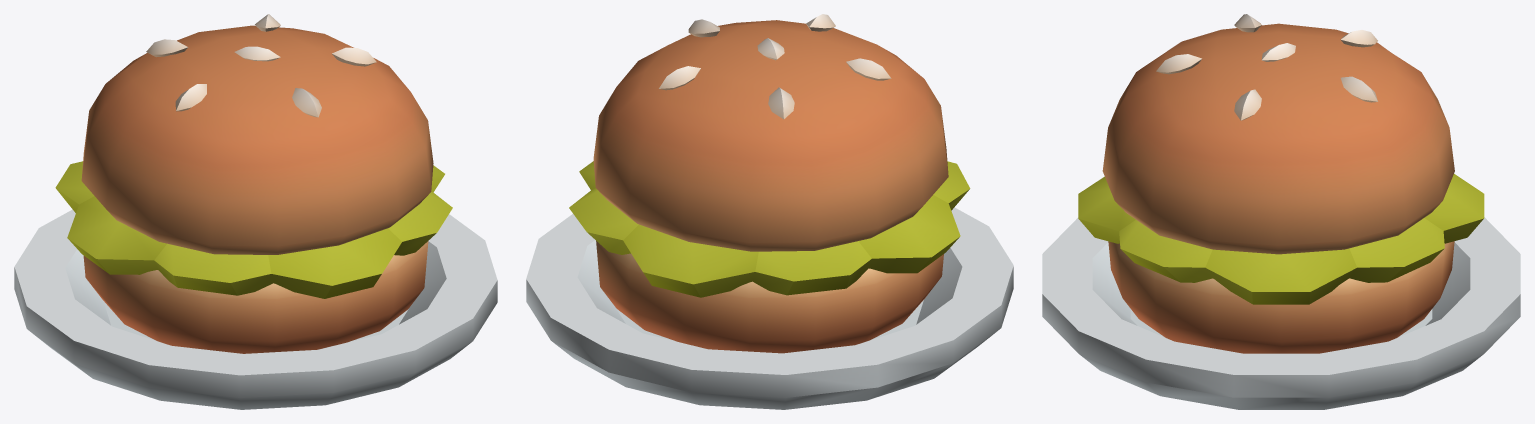
File: plate_bun_lettuce.glb
The picture shows the model from 3 angles, left to right: view 1: azimuth 30°, elevation 25°; view 2: azimuth 150°, elevation 25°; view 3: azimuth 270°, elevation 25°; orthographic projection.
Parts seen in each view (by area): view 1: plate; view 2: plate; view 3: plate.
Boxes of the visible parts, x1,y1,x2,y2 form: plate: [14, 14, 497, 409]; plate: [526, 14, 1013, 409]; plate: [1042, 14, 1520, 409].
Bounding box in the file's own units: 0.95 × 0.6023 × 0.95.
4 materials, 4 textured.
